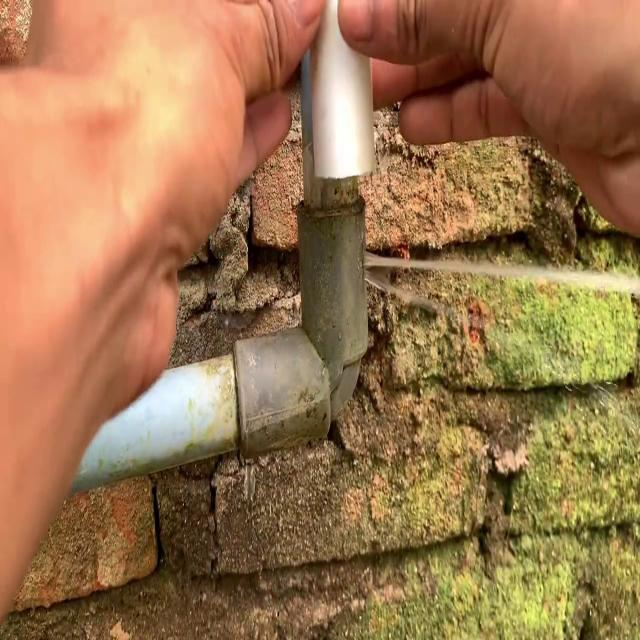leak: (362, 251, 640, 294)
